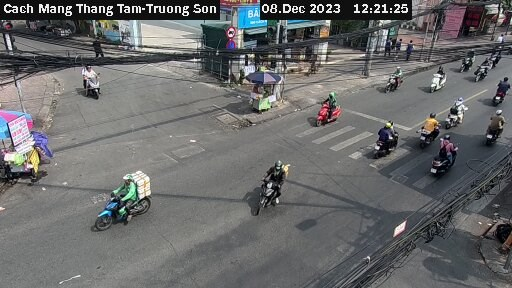motorbike: (89, 173, 164, 227), (239, 159, 301, 208), (426, 137, 471, 185), (365, 118, 410, 164), (309, 91, 354, 129), (72, 66, 114, 103), (374, 65, 419, 99), (481, 106, 512, 152), (411, 109, 441, 144), (442, 98, 473, 128), (425, 70, 455, 101), (486, 79, 511, 111), (450, 45, 475, 76), (483, 46, 508, 72), (469, 59, 490, 84)
